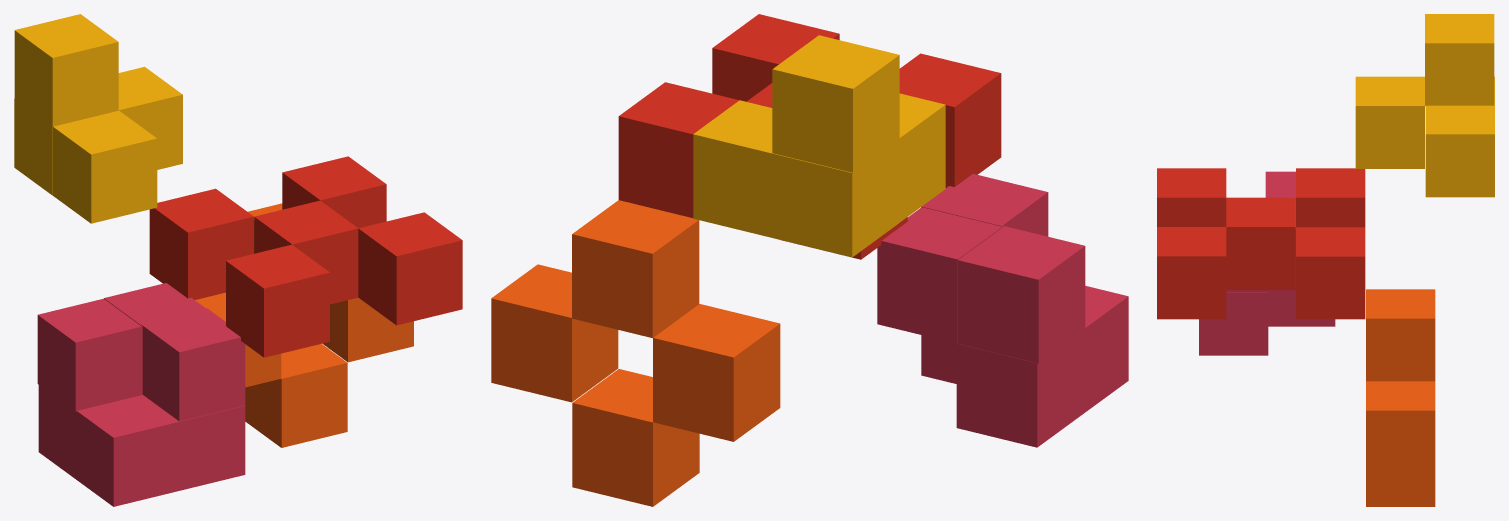
The picture shows the model from 3 angles, left to right: view 1: azimuth 30°, elevation 25°; view 2: azimuth 150°, elevation 25°; view 3: azimuth 270°, elevation 25°; orthographic projection. The views are drawn at different scales.
Visible parts, largest first — view 1: Cube_2_5, Cube_3_2, Cube_2_3, Cube, Cube_4, Cube_1_4, Cube_3, Cube_4_4, Cube_4_3, Cube_5_2, Cube_3_3, Cube_5 (+6 smaller); view 2: Cube_4_2, Cube_2_4, Cube_2_3, Cube, Cube_4_3, Cube_1_3, Cube_2_2, Cube_1, Cube_2, Cube_3_3, Cube_1_2, Cube_1_4 (+5 smaller); view 3: Cube_5_2, Cube_3_2, Cube_2_4, Cube_1_3, Cube_3_3, Cube_2_5, Cube_2_3, Cube_1_2, Cube_4_4, Cube_1_4, Cube_5, Cube_4_3 (+2 smaller).
Part boxes in pixels (x1,y1,x2,y2): Cube_2_5: (358, 212, 462, 325); Cube_3_2: (53, 110, 157, 223); Cube_2_3: (14, 14, 118, 126); Cube: (37, 298, 141, 411); Cube_4: (75, 395, 179, 506); Cube_1_4: (226, 244, 329, 357); Cube_3: (141, 308, 245, 421); Cube_4_4: (149, 188, 253, 299); Cube_4_3: (245, 344, 347, 447); Cube_5_2: (254, 200, 358, 304); Cube_3_3: (282, 156, 386, 228); Cube_5: (143, 395, 245, 490); Cube_4_2: (653, 304, 780, 441); Cube_2_4: (572, 200, 699, 338); Cube_2_3: (772, 35, 899, 172); Cube: (958, 226, 1085, 364); Cube_4_3: (572, 369, 699, 506); Cube_1_3: (491, 264, 618, 402); Cube_2_2: (771, 140, 898, 257); Cube_1: (956, 332, 1082, 447); Cube_2: (877, 207, 1004, 343); Cube_3_3: (618, 82, 738, 217); Cube_1_2: (693, 100, 772, 237); Cube_1_4: (899, 53, 1001, 187); Cube_5_2: (1226, 197, 1295, 289); Cube_3_2: (1355, 76, 1424, 168); Cube_2_4: (1366, 289, 1435, 381); Cube_1_3: (1366, 381, 1435, 473); Cube_3_3: (1296, 227, 1365, 319); Cube_2_5: (1157, 227, 1226, 319); Cube_2_3: (1425, 14, 1494, 106); Cube_1_2: (1425, 106, 1494, 197); Cube_4_4: (1296, 168, 1365, 227); Cube_1_4: (1157, 168, 1226, 226); Cube_5: (1199, 292, 1268, 355); Cube_4_3: (1366, 473, 1435, 506).
Bounding box in the file's own units: 59.54 × 59.9 × 48.71.
